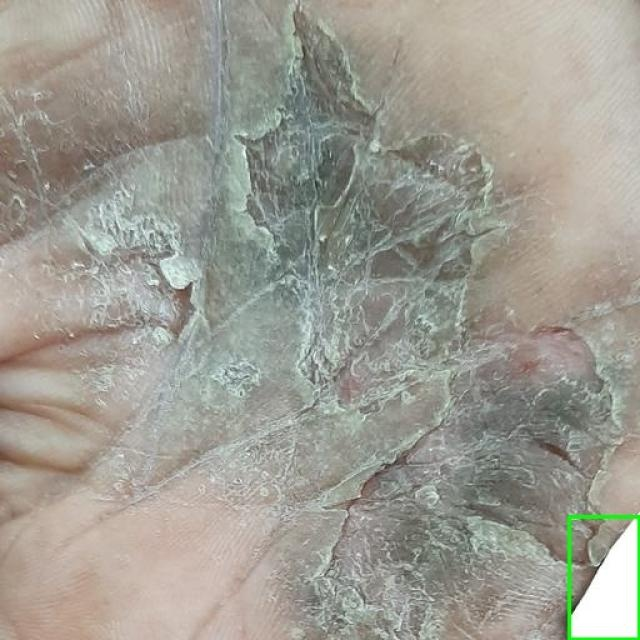Contact Dermatitis: (569, 516, 639, 639)
